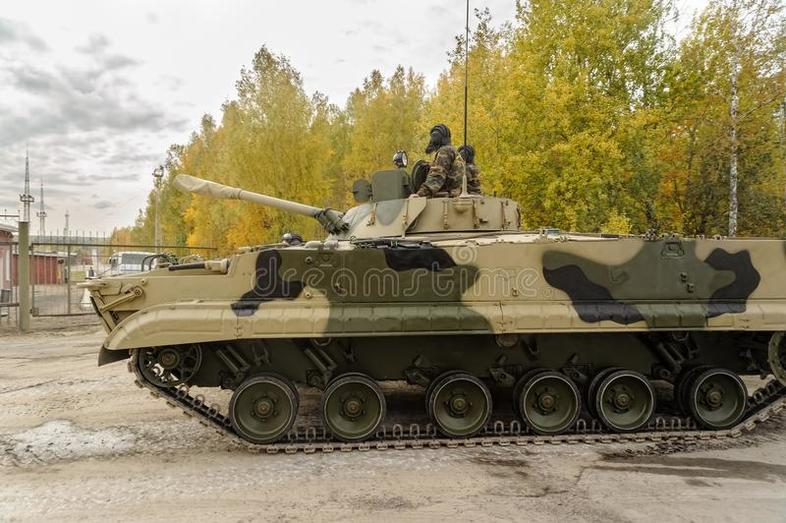bmp: (91, 175, 786, 435)
